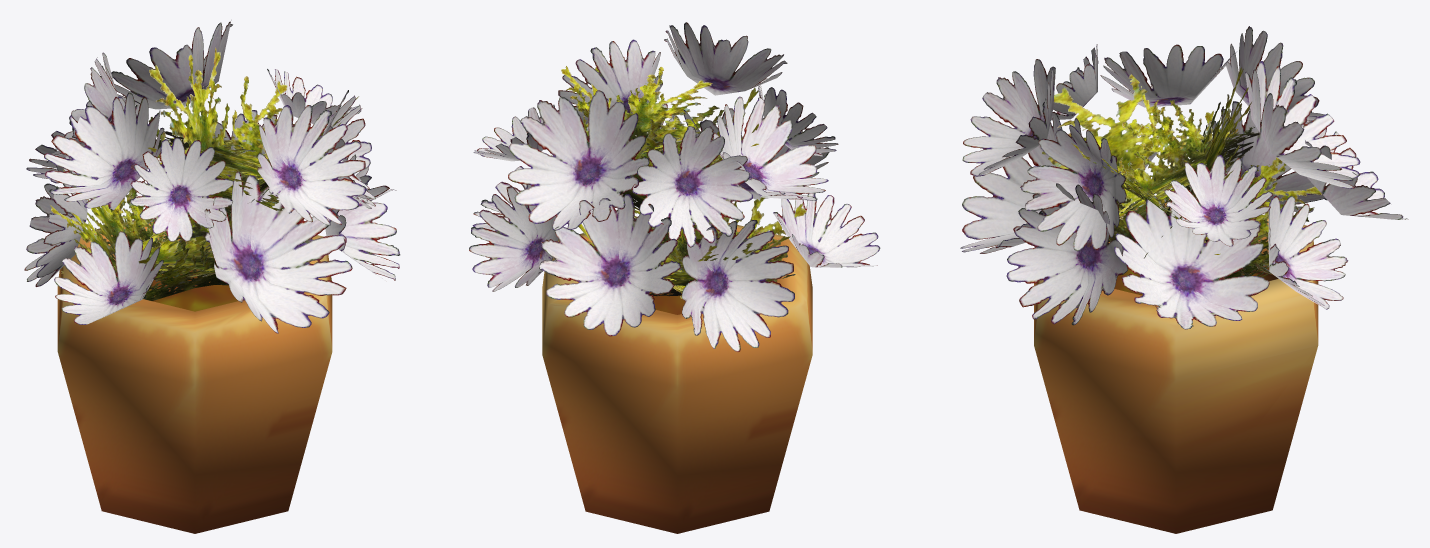
File: flower_pot_white.DAE
3 views of the same model, side by side, from view 1: azimuth 30°, elevation 25°; view 2: azimuth 150°, elevation 25°; view 3: azimuth 270°, elevation 25° (orthographic). The views are drawn at different scales.
Parts seen in each view (by area): view 1: Plane01; view 2: Plane01; view 3: Plane01.
Boxes of the visible parts, x1,y1,x2,y2 form: Plane01: (24, 20, 400, 533); Plane01: (469, 22, 880, 533); Plane01: (960, 26, 1408, 533).
Bounding box in the file's own units: 0.8404 × 0.9211 × 0.8816.
